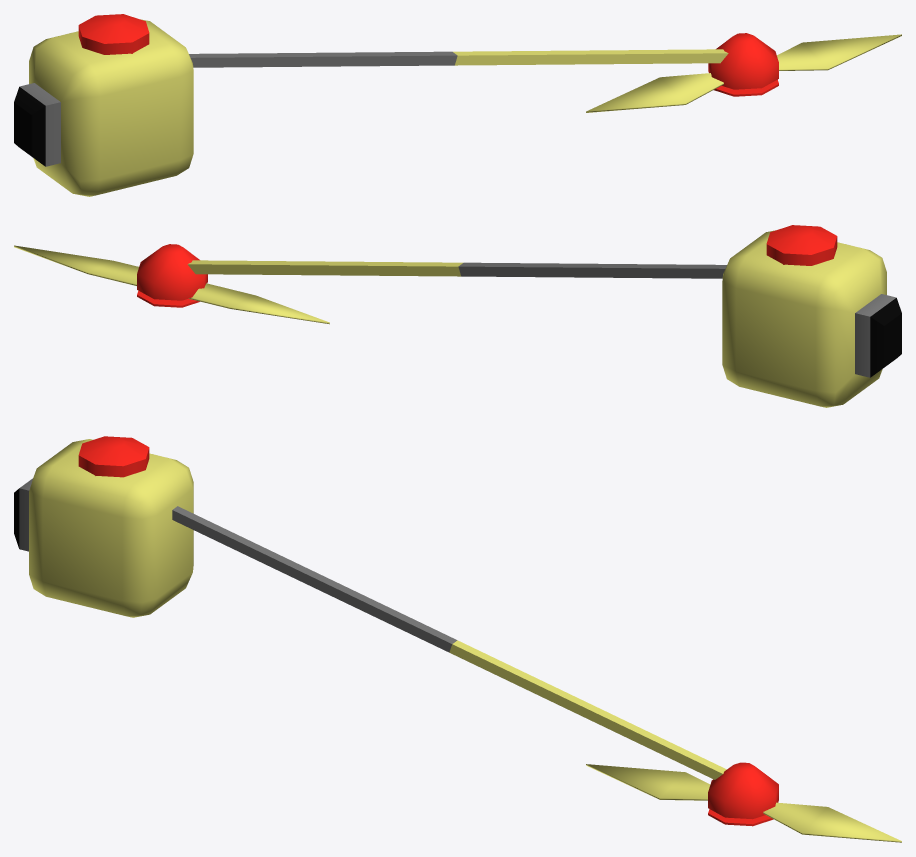
Rendered from trimmer.fbx.
3 views of the same model, one above another, from view 1: azimuth 30°, elevation 25°; view 2: azimuth 150°, elevation 25°; view 3: azimuth 330°, elevation 25° (orthographic).
Visible parts, largest first — view 1: Cylinder.001, Plane; view 2: Cylinder.001, Plane; view 3: Cylinder.001, Plane.
Boxes of the visible parts, <box> form: Cylinder.001: <box>14,14,778,196</box>; Plane: <box>586,34,901,112</box>; Cylinder.001: <box>137,225,901,407</box>; Plane: <box>14,245,329,324</box>; Cylinder.001: <box>14,436,778,826</box>; Plane: <box>586,764,901,842</box>.
Size of the model in its own units: 8.93 by 2.09 by 1.01.
